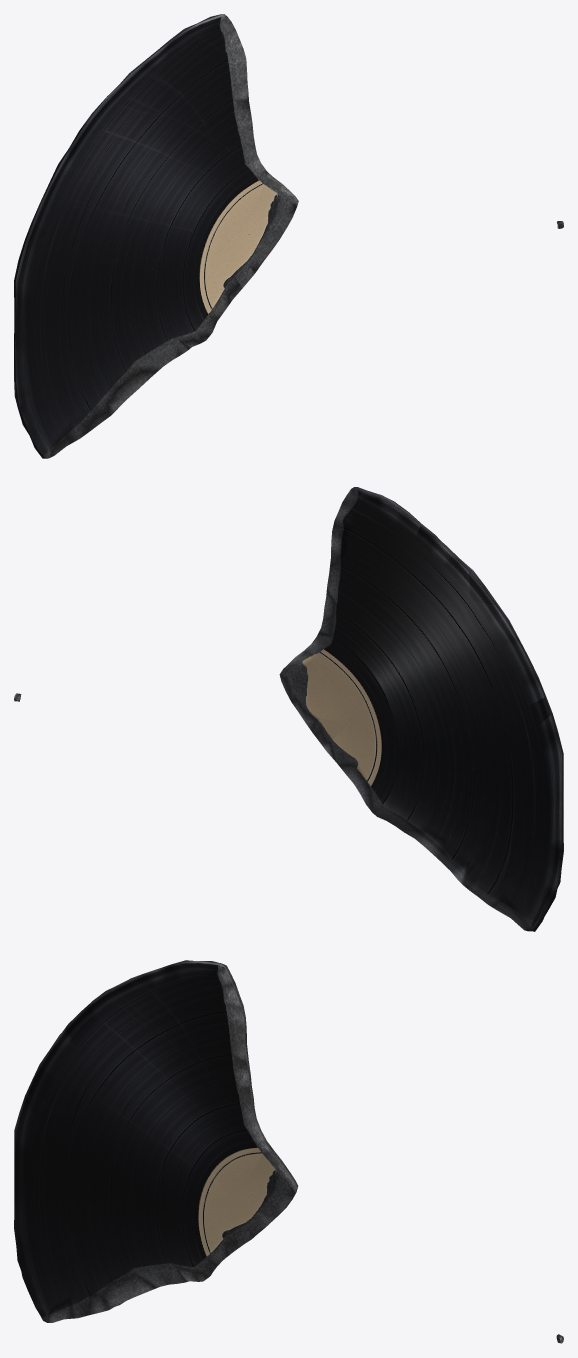
File: Meshy_AI_Broken_Record_0815130737_texture.fbx
The picture shows the model from 3 angles, top to bottom: view 1: azimuth 30°, elevation 25°; view 2: azimuth 150°, elevation 25°; view 3: azimuth 330°, elevation 25°; orthographic projection.
Visible parts, largest first — view 1: mesh_node; view 2: mesh_node; view 3: mesh_node.
Boxes of the visible parts, bbox=[...] form: mesh_node: bbox=[14, 14, 563, 458]; mesh_node: bbox=[14, 487, 563, 931]; mesh_node: bbox=[14, 960, 563, 1343].
Bounding box in the file's own units: 100 × 70.12 × 1.35.
1 material, 1 textured.
